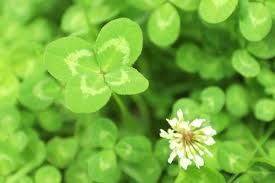4-clover: (44, 18, 150, 112)
